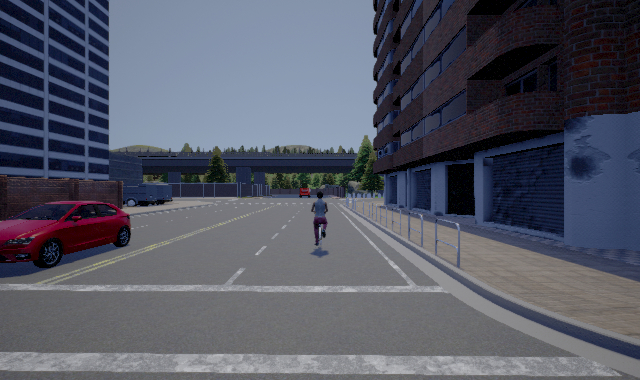bike: (309, 191, 332, 250)
vehicle: (1, 201, 131, 268)
